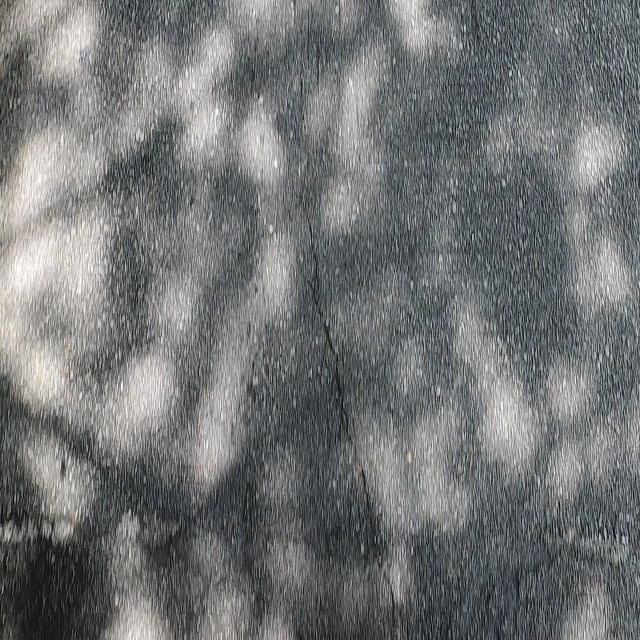Retak-Memanjang: (300, 196, 384, 555)
